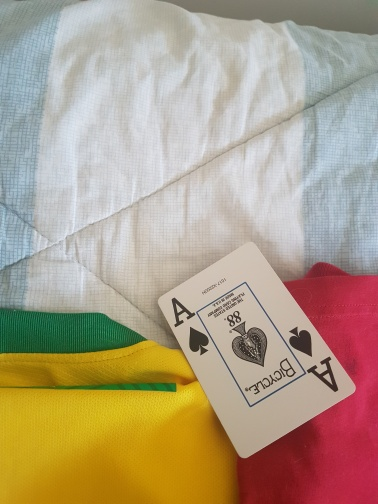ace: (157, 245, 357, 459)
